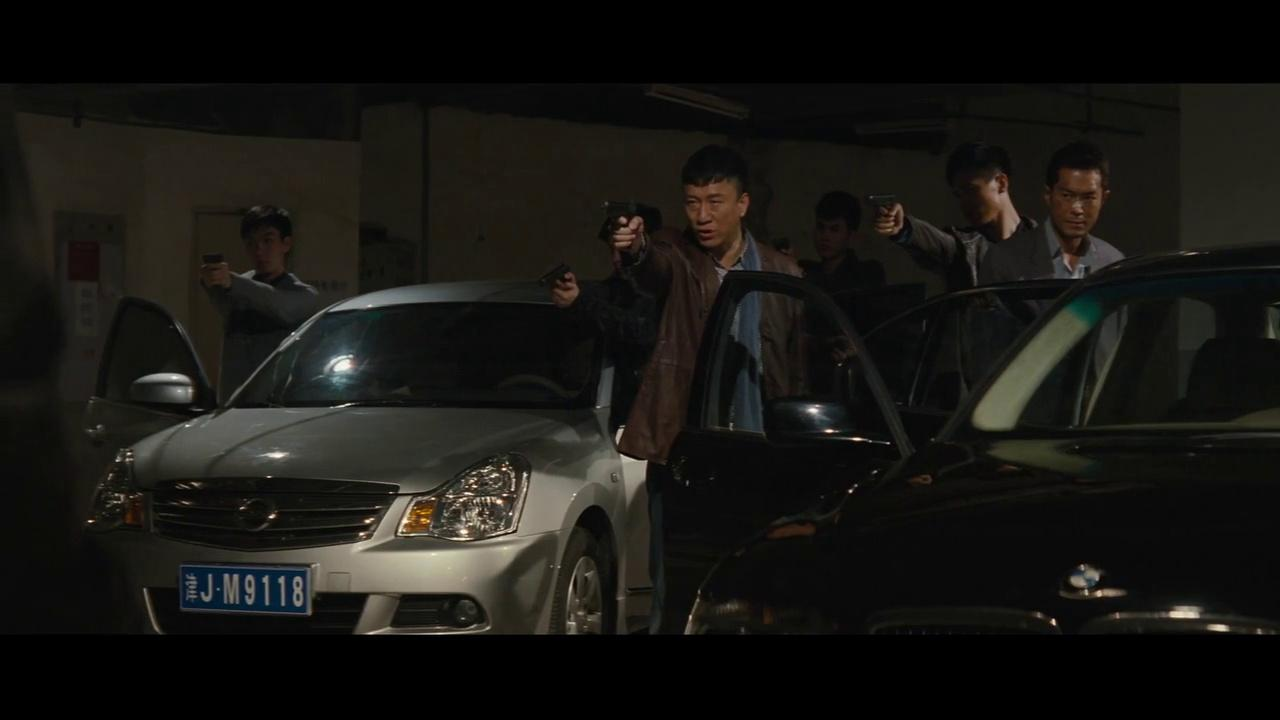gun: (596, 194, 646, 251), (861, 190, 905, 237), (535, 260, 580, 303), (195, 247, 230, 291)
